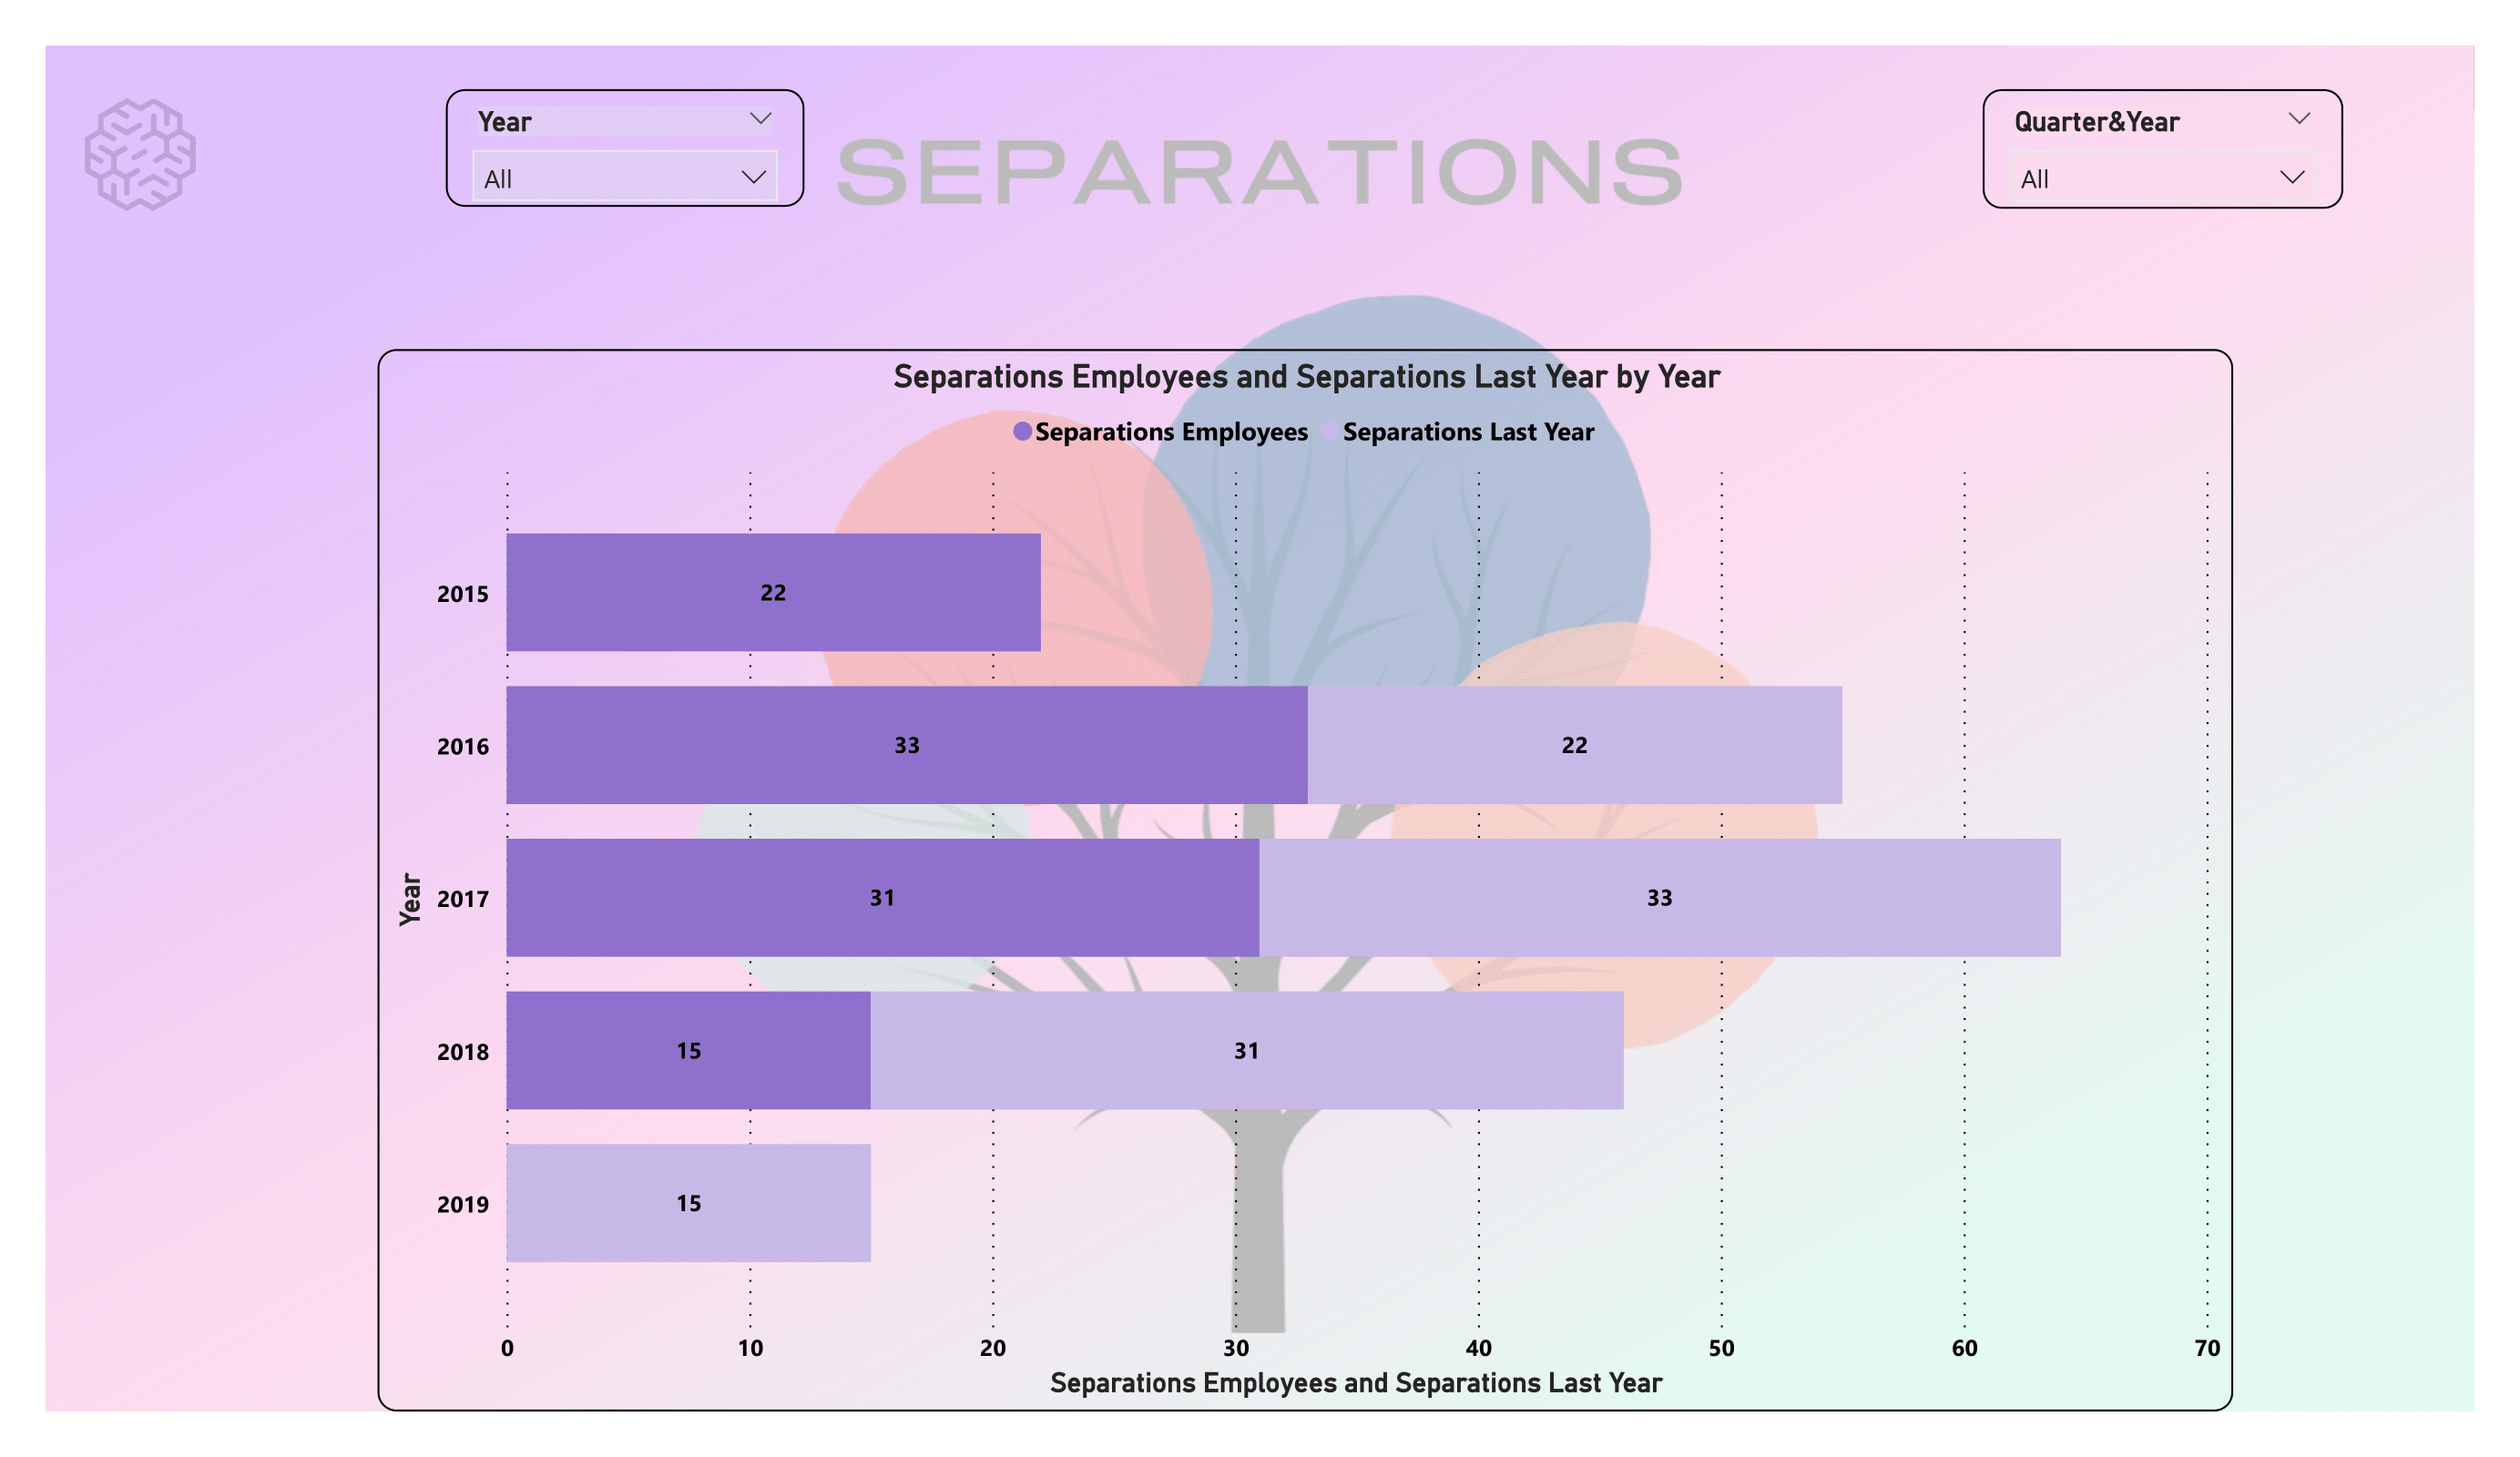

This screenshot's page, from the dashboard's own definition file:
{"tool":"powerbi","page":{"name":"SEPARATIONS 2","canvas":[1280,720],"ordinal":7},"visuals":[{"type":"image","box":[15.4,22.7,69,69],"z":0},{"type":"slicer","fields":{"Values":["Calendar.Year"]},"box":[210.8,22.8,189.1,62.7],"z":8000},{"type":"slicer","fields":{"Values":["Calendar.QuarterInCalendar"]},"box":[1020.8,22.7,189.7,62.8],"z":9000},{"type":"barChart","fields":{"Category":["Calendar.Year","Calendar.QuarterInCalendar","Calendar.MonthInCalendar"],"Y":["1.DepartmentKeyMeasures.Separations Employees","3.SeparationsKeyMeasures.Separation Last Year"]},"box":[175,160.3,978,559.8],"z":10000}]}

Visuals, with their boxes on the page's 1280x720 design canvas (x1, y1, x2, y2). These are canvas units, not pixel positions in the 2520x1457 screenshot, which may show the page scaled, cropped or inside an application window:
image: x1=15, y1=23, x2=84, y2=92
slicer - Calendar.Year: x1=211, y1=23, x2=400, y2=86
slicer - Calendar.QuarterInCalendar: x1=1021, y1=23, x2=1210, y2=86
barChart - Calendar.Year x Calendar.QuarterInCalendar: x1=175, y1=160, x2=1153, y2=720
